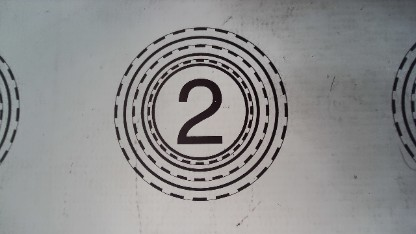2r: (109, 27, 290, 200)
